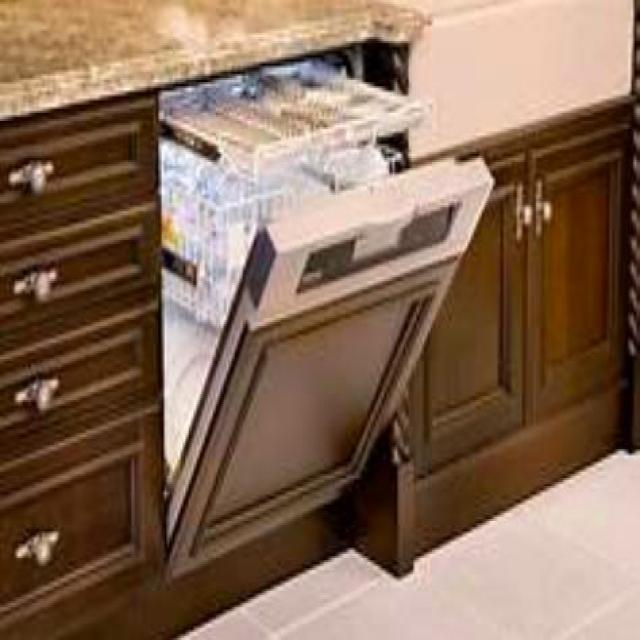dishwasher: (157, 29, 490, 578)
